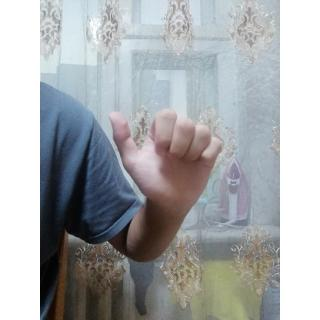DAD: (103, 107, 224, 222)
